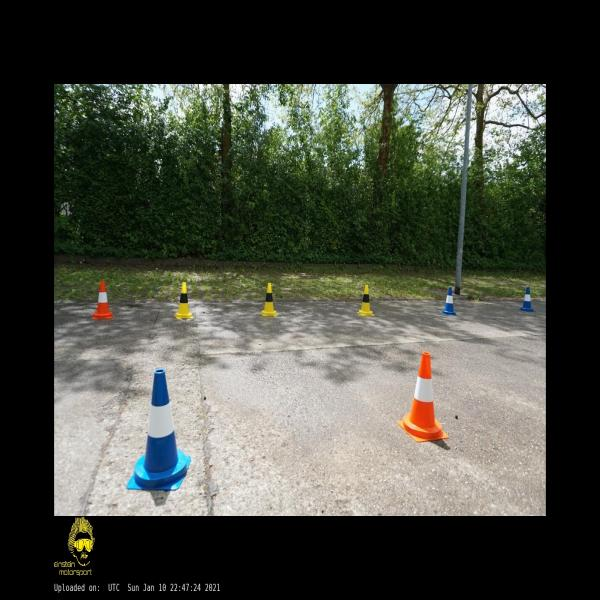blue_cone: (126, 369, 190, 490), (441, 287, 456, 315), (518, 288, 534, 312)
orange_cone: (397, 352, 449, 442), (92, 280, 113, 318)
yellow_cone: (174, 282, 193, 318), (261, 282, 277, 316), (357, 285, 374, 316)
